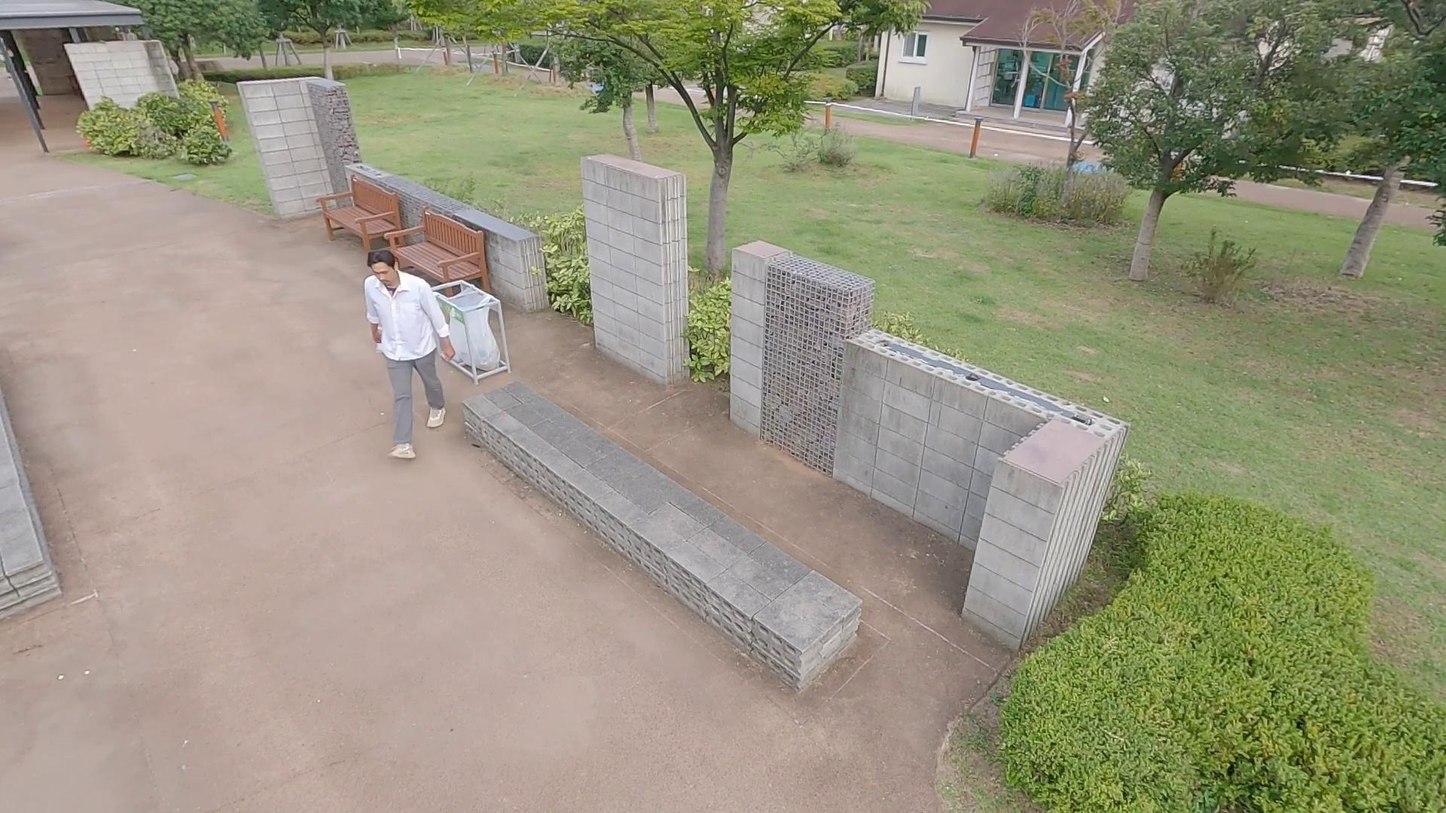person: (353, 251, 457, 461)
